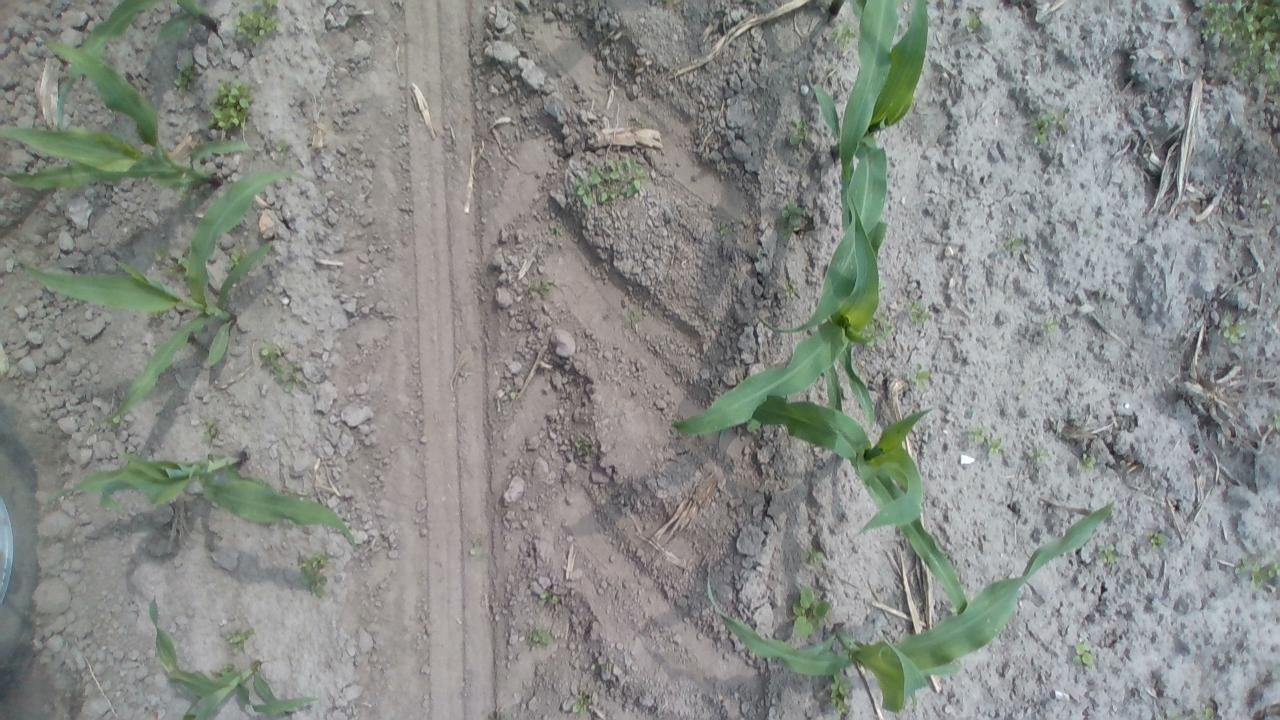Maize: (704, 500, 1118, 715), (19, 166, 318, 430), (716, 384, 969, 628), (754, 2, 930, 332), (668, 222, 888, 437), (0, 34, 252, 204), (45, 449, 358, 554), (823, 0, 930, 255), (49, 2, 220, 132), (148, 596, 318, 720)
Weeds: (1189, 0, 1280, 103), (568, 158, 651, 209), (204, 74, 258, 136), (257, 338, 312, 394), (788, 585, 834, 644), (233, 1, 285, 50), (864, 288, 898, 350), (296, 548, 336, 600), (1032, 99, 1074, 148), (962, 420, 1008, 459), (776, 198, 812, 244), (1230, 556, 1279, 589), (825, 670, 856, 718), (146, 241, 182, 278), (224, 621, 256, 656), (796, 541, 830, 570), (1142, 524, 1174, 554), (1068, 640, 1098, 672), (784, 115, 811, 149), (777, 271, 801, 309), (906, 359, 932, 394), (562, 691, 598, 716), (1000, 229, 1030, 258), (197, 413, 223, 446), (572, 433, 602, 461), (175, 62, 199, 96), (1218, 316, 1247, 344), (1074, 448, 1100, 479), (524, 276, 557, 300), (1095, 540, 1123, 568), (833, 21, 860, 50), (1024, 444, 1054, 470), (1037, 314, 1063, 344), (526, 625, 557, 650), (903, 298, 931, 324), (536, 587, 562, 613), (466, 530, 490, 558), (223, 244, 245, 274), (964, 9, 986, 38), (496, 380, 523, 403), (626, 110, 654, 132), (1190, 703, 1223, 719), (273, 140, 295, 164), (622, 308, 642, 332), (1160, 704, 1192, 718), (1257, 192, 1275, 216), (549, 219, 566, 241), (717, 220, 736, 239), (178, 186, 194, 202)
